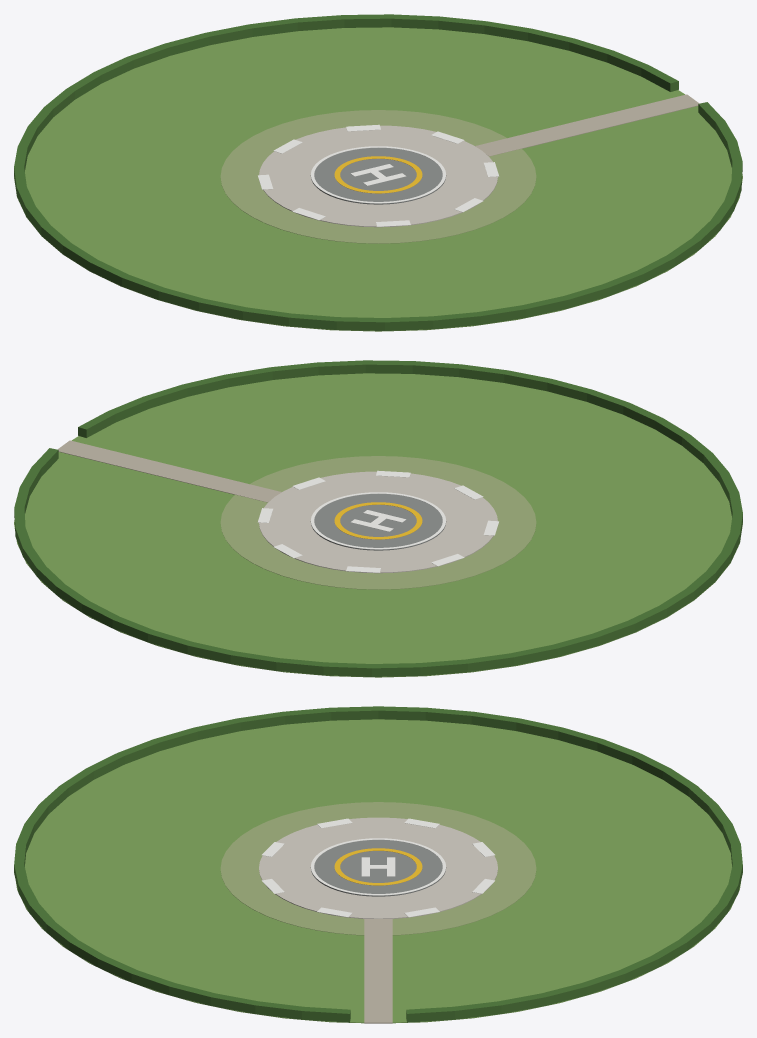
File: helipad.glb
3 views of the same model, one above another, from view 1: azimuth 30°, elevation 25°; view 2: azimuth 150°, elevation 25°; view 3: azimuth 270°, elevation 25° (orthographic).
Visible parts, largest first — view 1: Helipad | Helipad lawn, Helipad | Helipad hedge, Helipad | Helipad grass pavers, Helipad | Helipad FATO, Helipad | Helipad TLOF, Helipad | Helipad pavers, Helipad | Helipad white, Helipad | Helipad yellow; view 2: Helipad | Helipad lawn, Helipad | Helipad hedge, Helipad | Helipad grass pavers, Helipad | Helipad FATO, Helipad | Helipad TLOF, Helipad | Helipad pavers, Helipad | Helipad white, Helipad | Helipad yellow; view 3: Helipad | Helipad lawn, Helipad | Helipad hedge, Helipad | Helipad grass pavers, Helipad | Helipad FATO, Helipad | Helipad TLOF, Helipad | Helipad pavers, Helipad | Helipad white, Helipad | Helipad yellow.
Boxes of the visible parts, x1,y1,x2,y2 form: Helipad | Helipad lawn: [14, 27, 742, 331]; Helipad | Helipad hedge: [14, 14, 742, 330]; Helipad | Helipad grass pavers: [220, 110, 536, 243]; Helipad | Helipad FATO: [259, 125, 497, 227]; Helipad | Helipad TLOF: [310, 147, 446, 204]; Helipad | Helipad pavers: [475, 94, 699, 156]; Helipad | Helipad white: [257, 124, 499, 226]; Helipad | Helipad yellow: [334, 156, 422, 193]; Helipad | Helipad lawn: [14, 373, 742, 677]; Helipad | Helipad hedge: [14, 360, 742, 676]; Helipad | Helipad grass pavers: [220, 456, 536, 589]; Helipad | Helipad FATO: [259, 471, 497, 573]; Helipad | Helipad TLOF: [310, 493, 446, 550]; Helipad | Helipad pavers: [57, 440, 281, 502]; Helipad | Helipad white: [257, 470, 499, 572]; Helipad | Helipad yellow: [334, 502, 422, 539]; Helipad | Helipad lawn: [16, 719, 740, 1023]; Helipad | Helipad hedge: [14, 706, 742, 1022]; Helipad | Helipad grass pavers: [220, 802, 536, 935]; Helipad | Helipad FATO: [259, 817, 497, 918]; Helipad | Helipad TLOF: [310, 840, 446, 896]; Helipad | Helipad pavers: [364, 919, 392, 1023]; Helipad | Helipad white: [262, 818, 494, 917]; Helipad | Helipad yellow: [334, 848, 422, 885].
Bounding box in the file's own units: 64.6 × 0.9014 × 64.6.
